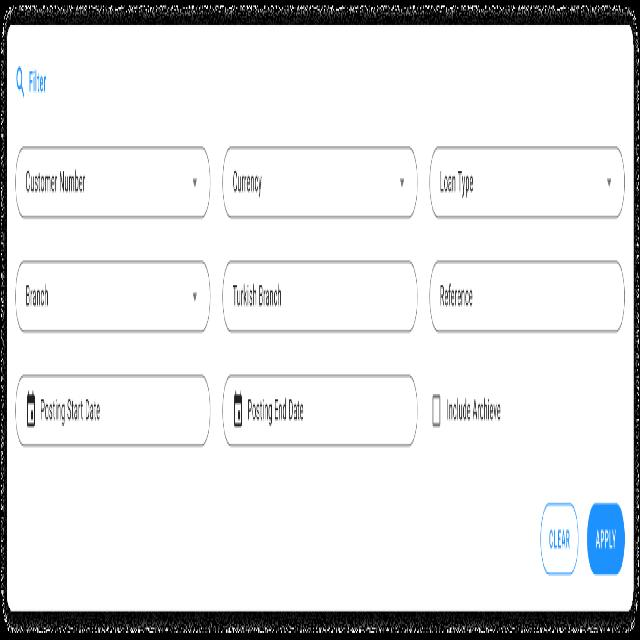QLabel: (547, 519, 571, 556), (28, 64, 48, 104), (596, 522, 618, 554)
VBtn: (540, 501, 578, 578), (586, 501, 625, 576)
VCard: (4, 14, 634, 617)
VCheckbox: (15, 257, 210, 334), (222, 144, 418, 220), (429, 144, 624, 220), (15, 144, 211, 219), (429, 387, 507, 435)
VIcon: (15, 66, 25, 103)
VInlineDatepicker: (222, 371, 417, 449), (15, 376, 210, 449)
VTextField: (222, 255, 418, 333), (429, 259, 625, 335)
